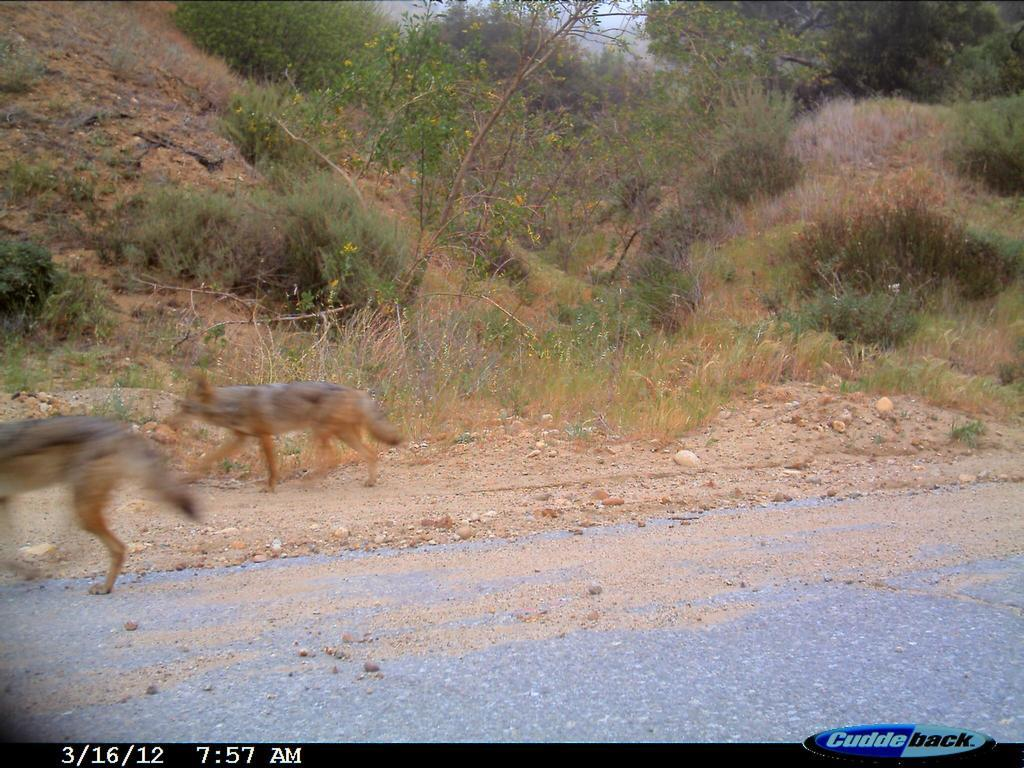coyote: (1, 409, 204, 599), (177, 369, 409, 500)
